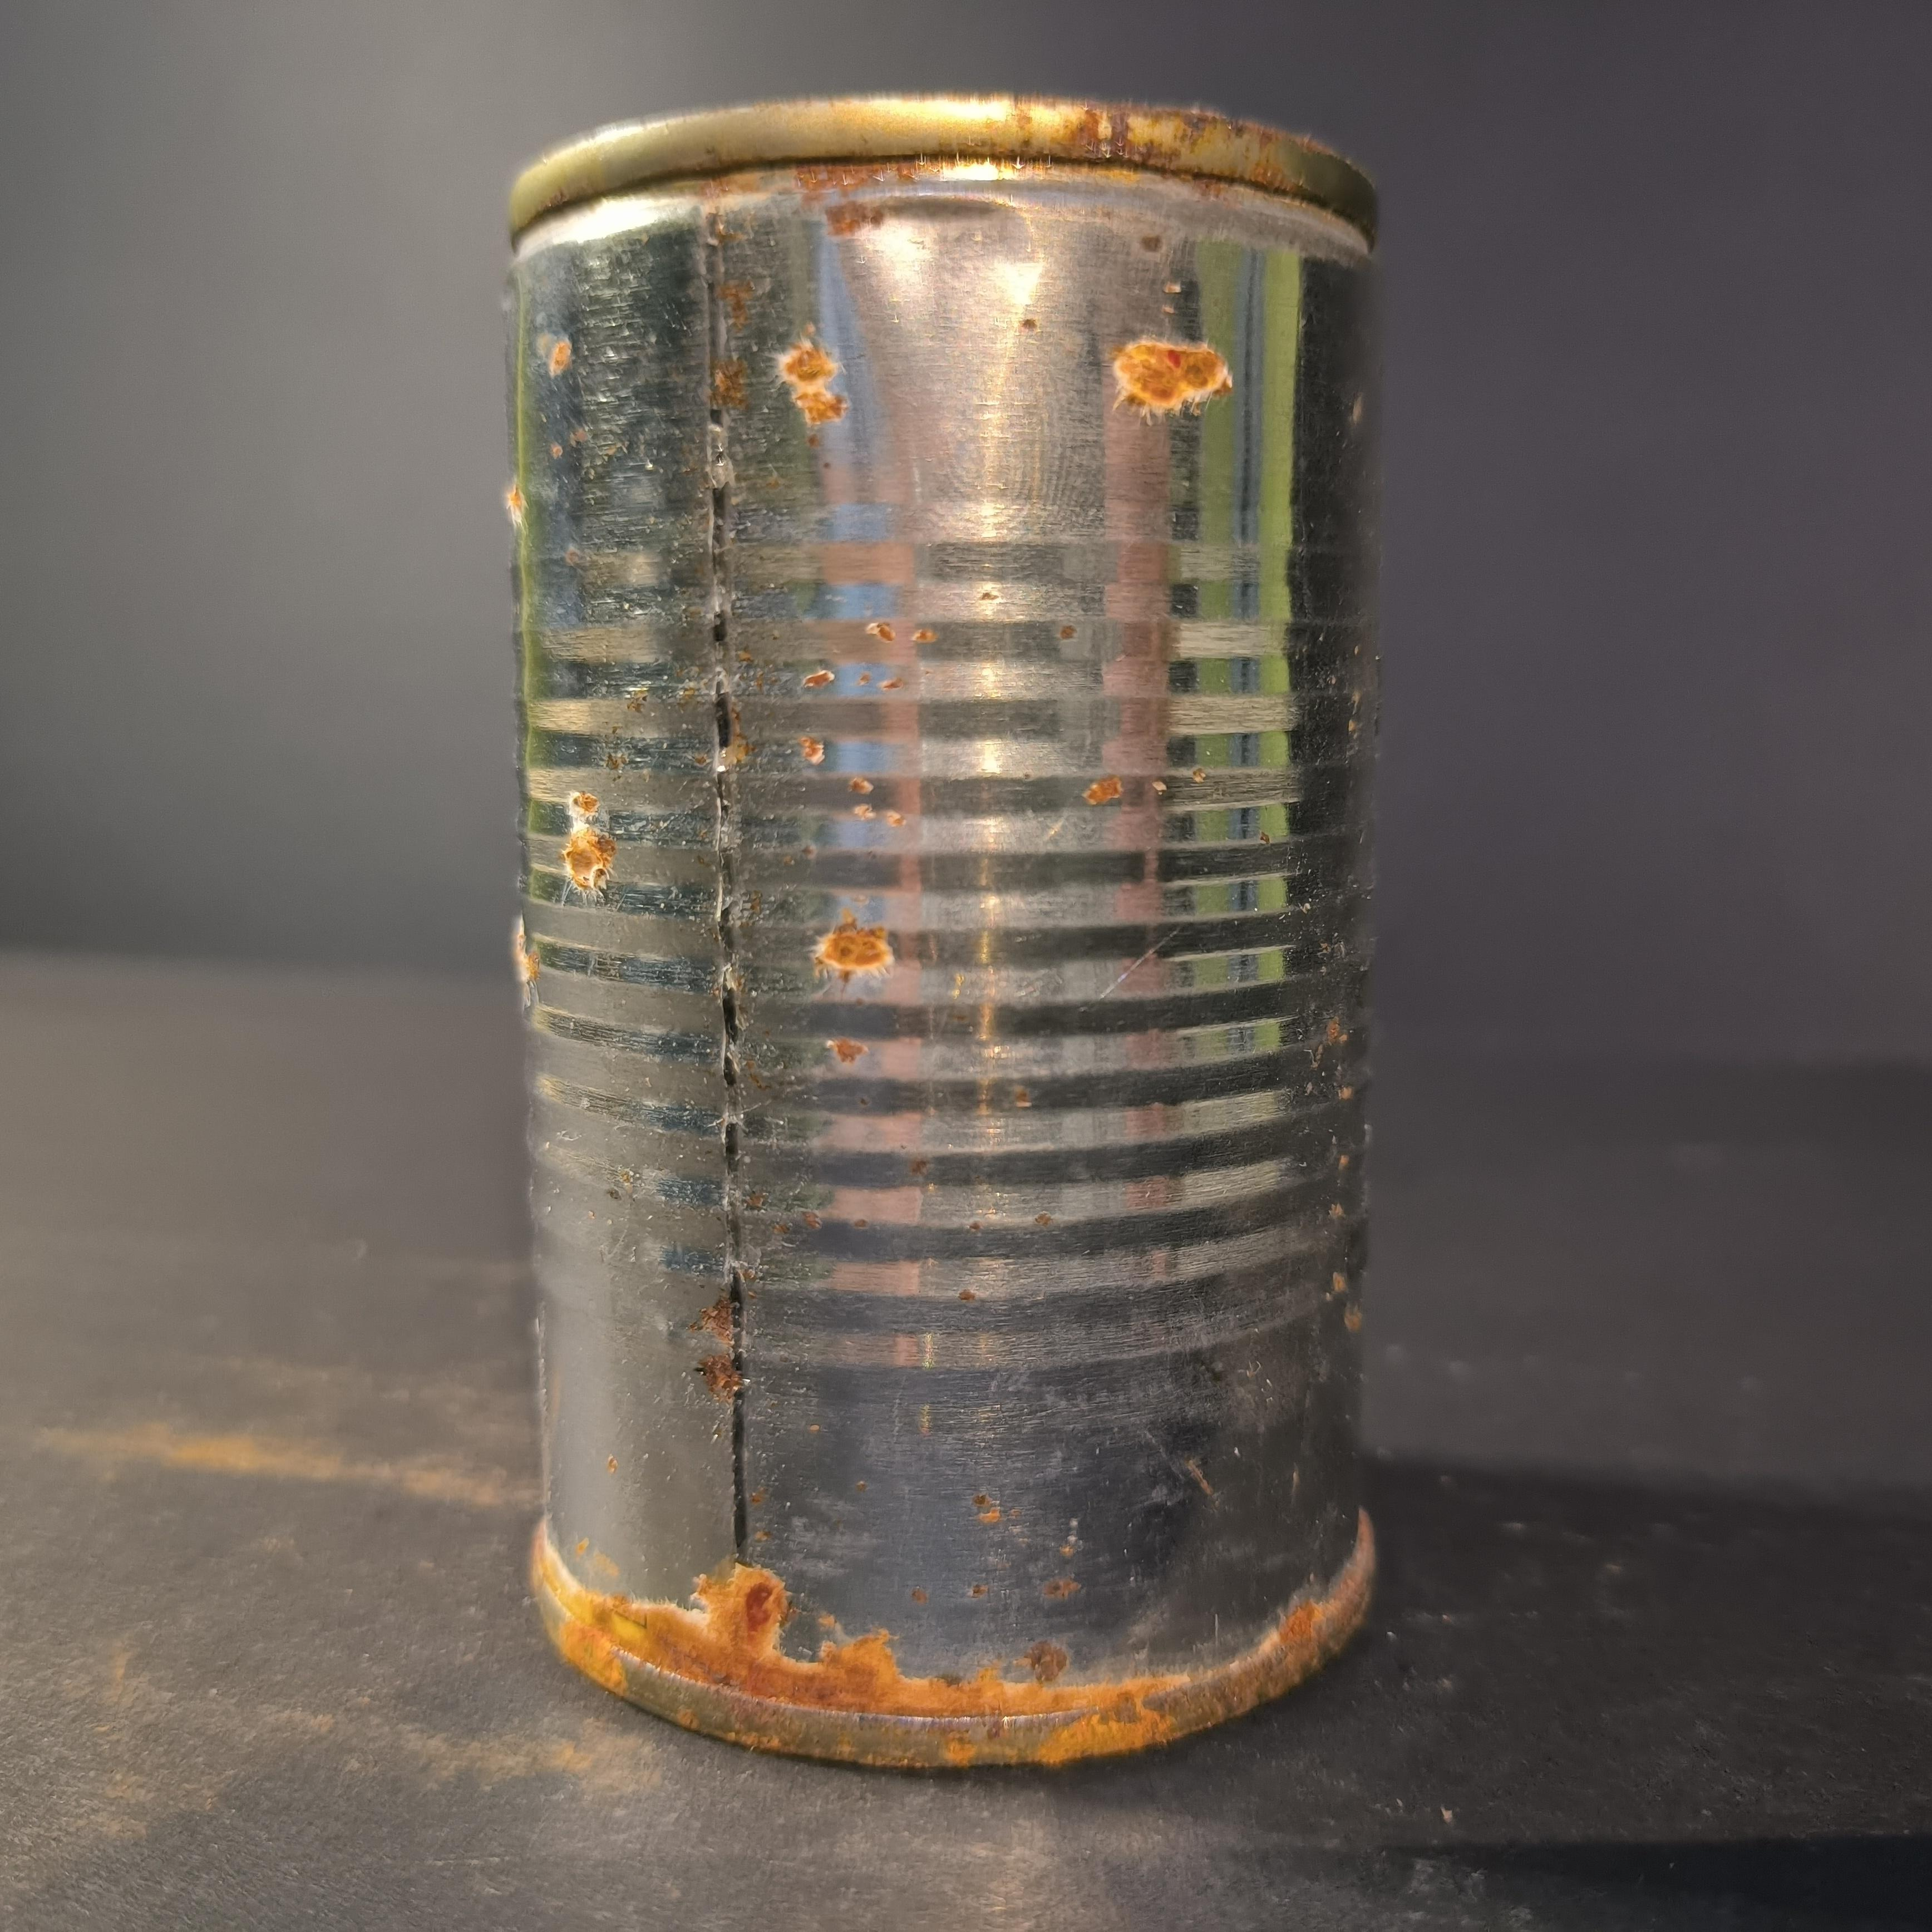Rusted: (478, 73, 1474, 1806)
